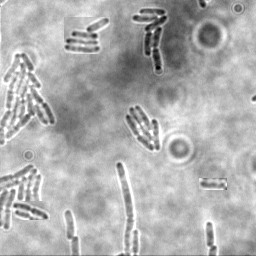Dividing: (114, 161, 133, 255), (12, 201, 50, 220), (204, 221, 215, 248)
Microcolony: (1, 51, 56, 147), (1, 162, 44, 231), (130, 8, 167, 72), (64, 17, 110, 54), (124, 106, 160, 153), (63, 208, 74, 240)
Rod: (199, 178, 227, 190)
